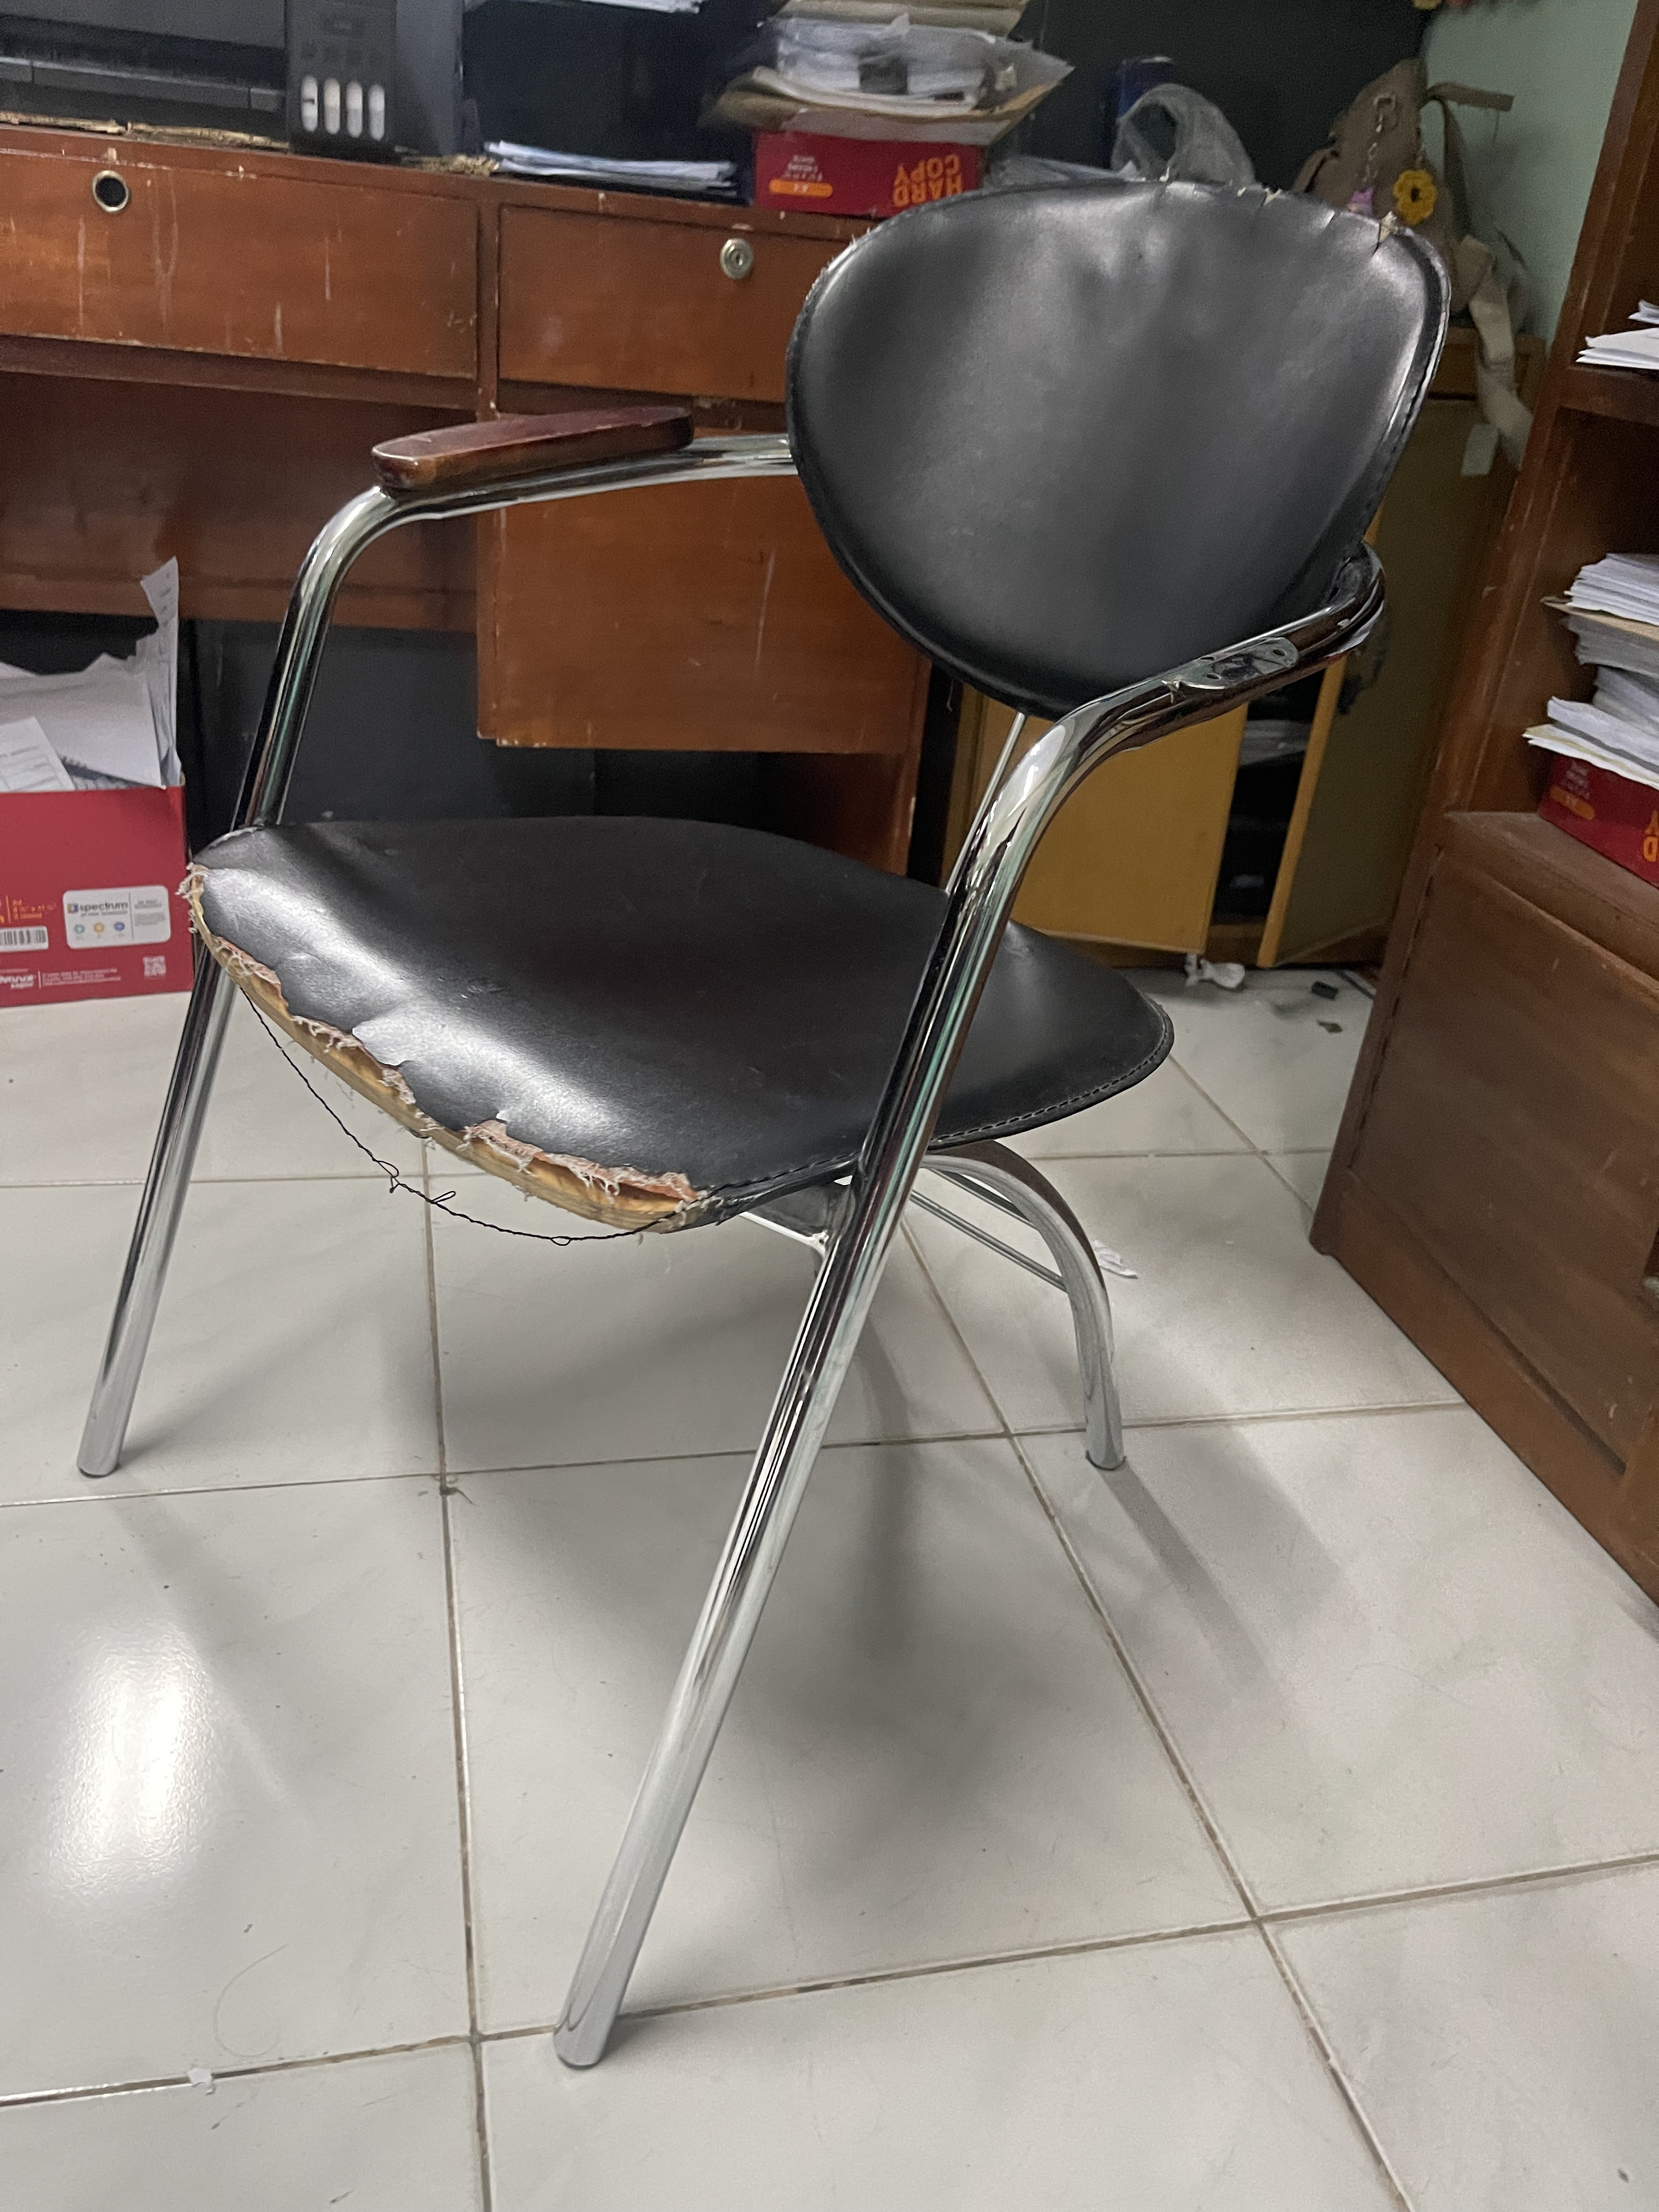chair1: (66, 169, 1460, 2062)
